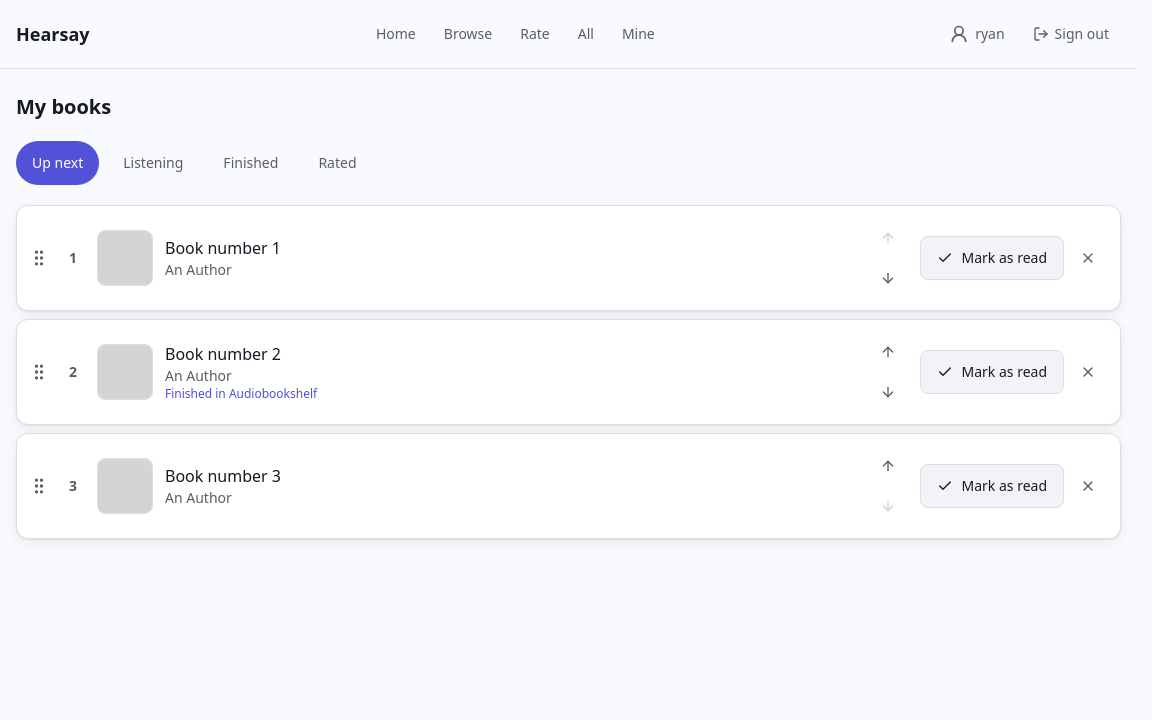
the Up next list › marks a book read with a rating, or with Skip, and removes one outright
This screenshot has width=1152, height=720.
Expected: the text "Finished in Audiobookshelf" is shown, x1=165 y1=385 x2=317 y2=402
Step 1. Click the button with aria-label "Mark Book number 2 as read" → (992, 372), box x1=920 y1=350 x2=1064 y2=394
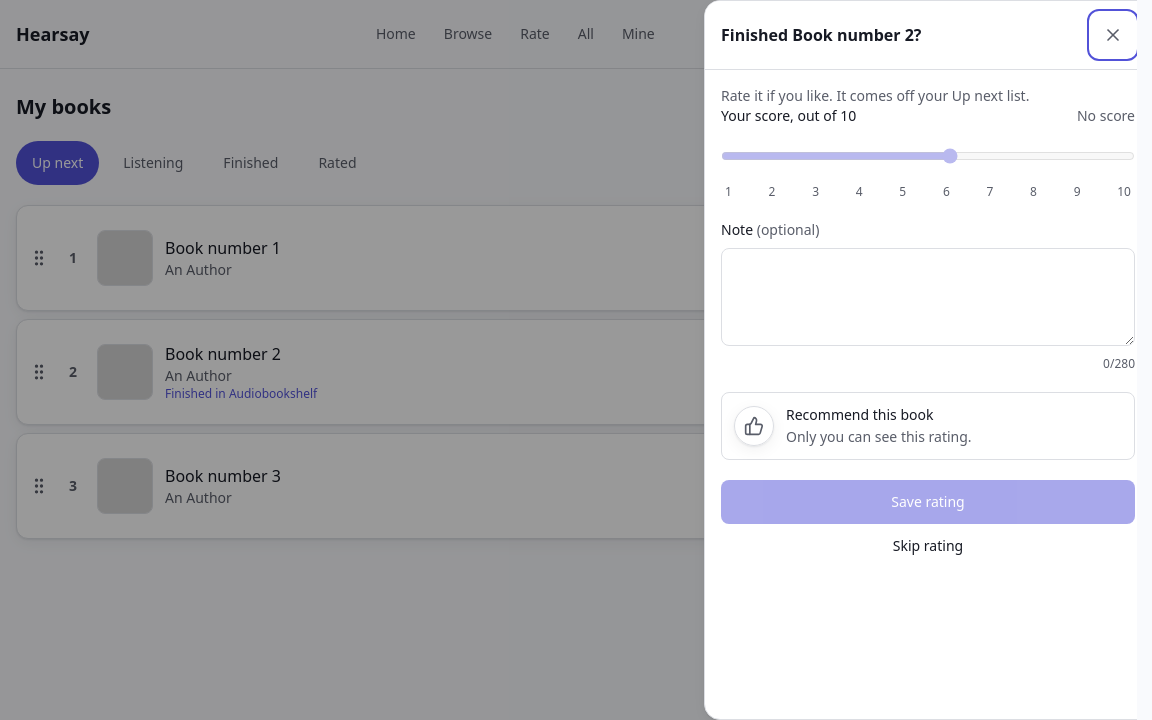
Step 2. Set the slider to "9" → (1083, 156), box x1=721 y1=134 x2=1135 y2=178
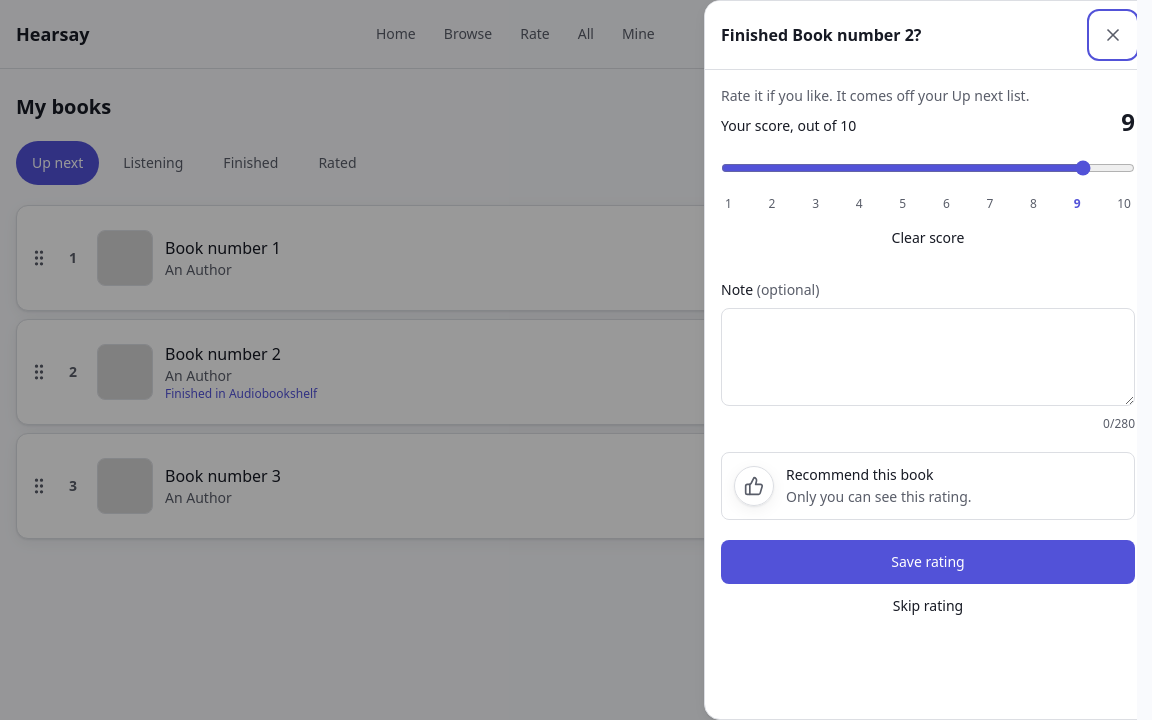
Step 3. Click the button "Save rating" → (928, 562), box x1=721 y1=540 x2=1135 y2=584
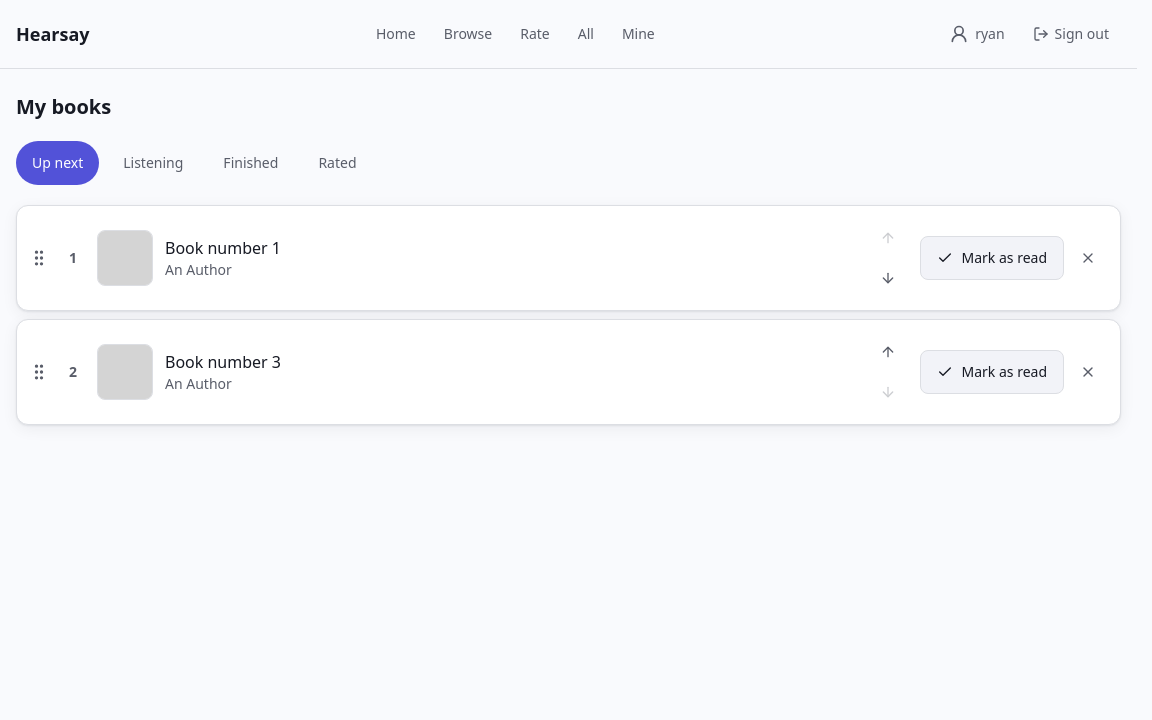
Step 4. Click the button with aria-label "Mark Book number 1 as read" → (992, 258), box x1=920 y1=236 x2=1064 y2=280
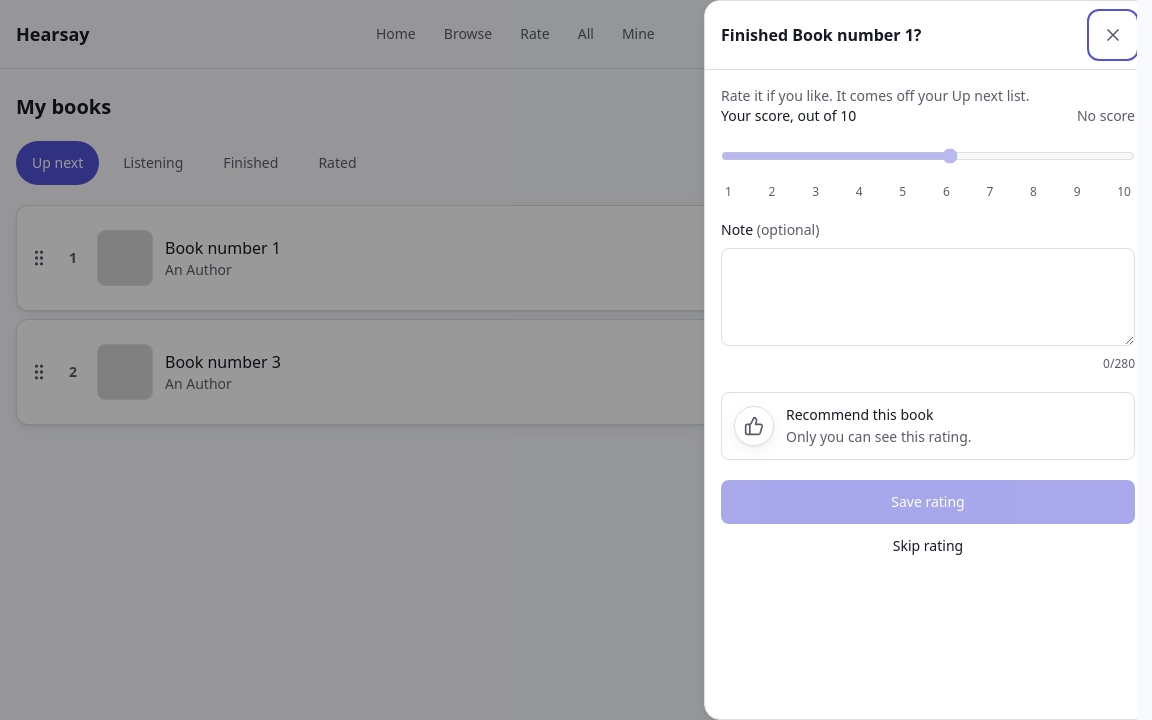
Step 5. Click the button "Skip rating" → (928, 546), box x1=721 y1=524 x2=1135 y2=568
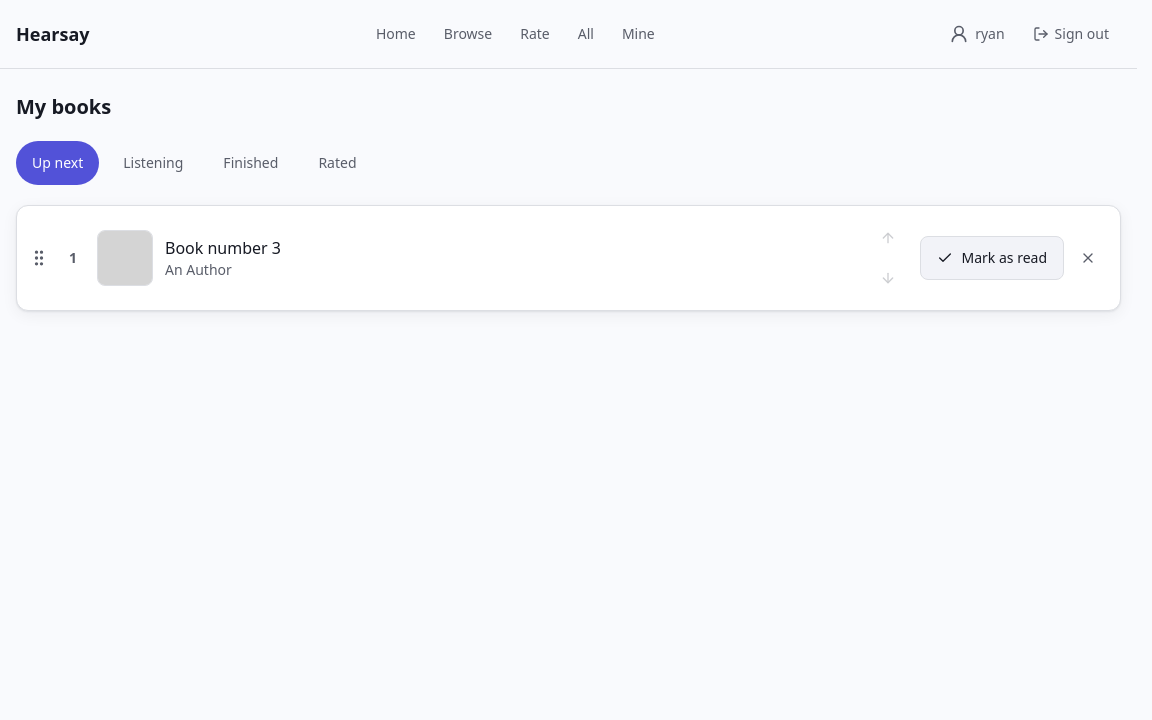
Step 6. Click the button named "Remove Book number 3 from Up next" → (1088, 258), box x1=1068 y1=236 x2=1108 y2=280
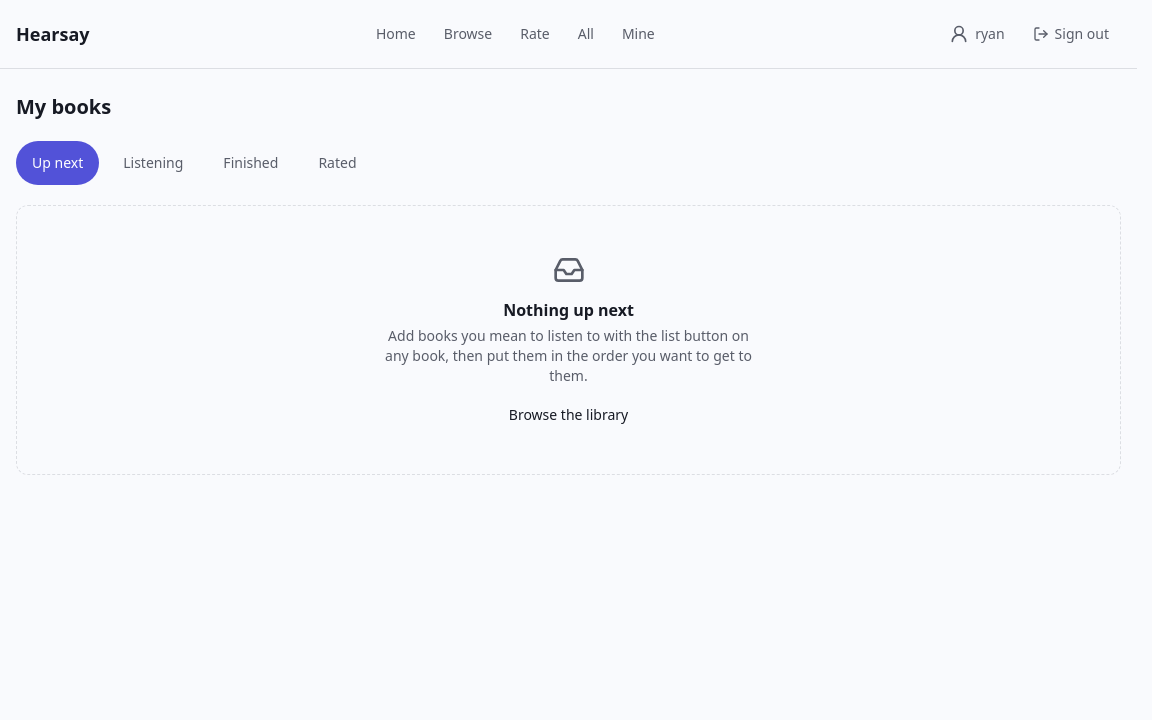
Expected: the heading "Nothing up next" is shown, x1=503 y1=298 x2=634 y2=322
